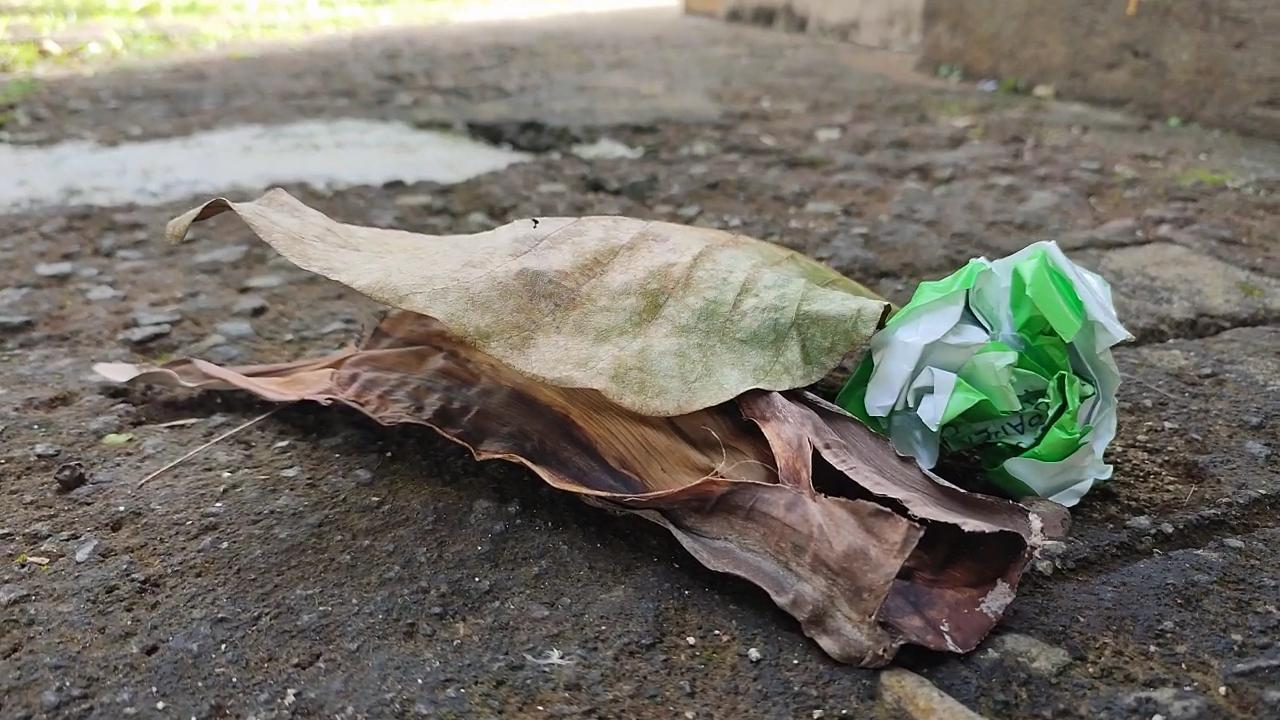Paper: (835, 235, 1140, 517)
